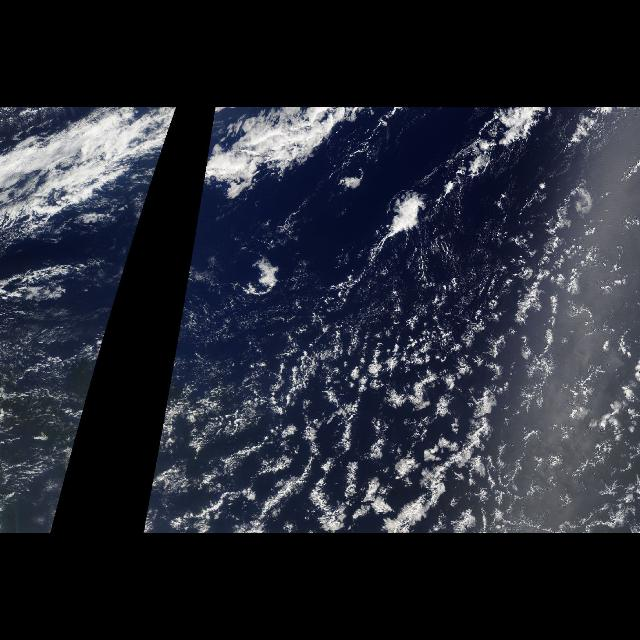Fish: (188, 112, 360, 262), (7, 112, 175, 262)
Flower: (215, 275, 640, 533)
Gravel: (323, 263, 635, 487)
Sugar: (166, 271, 310, 393), (0, 271, 124, 393)
